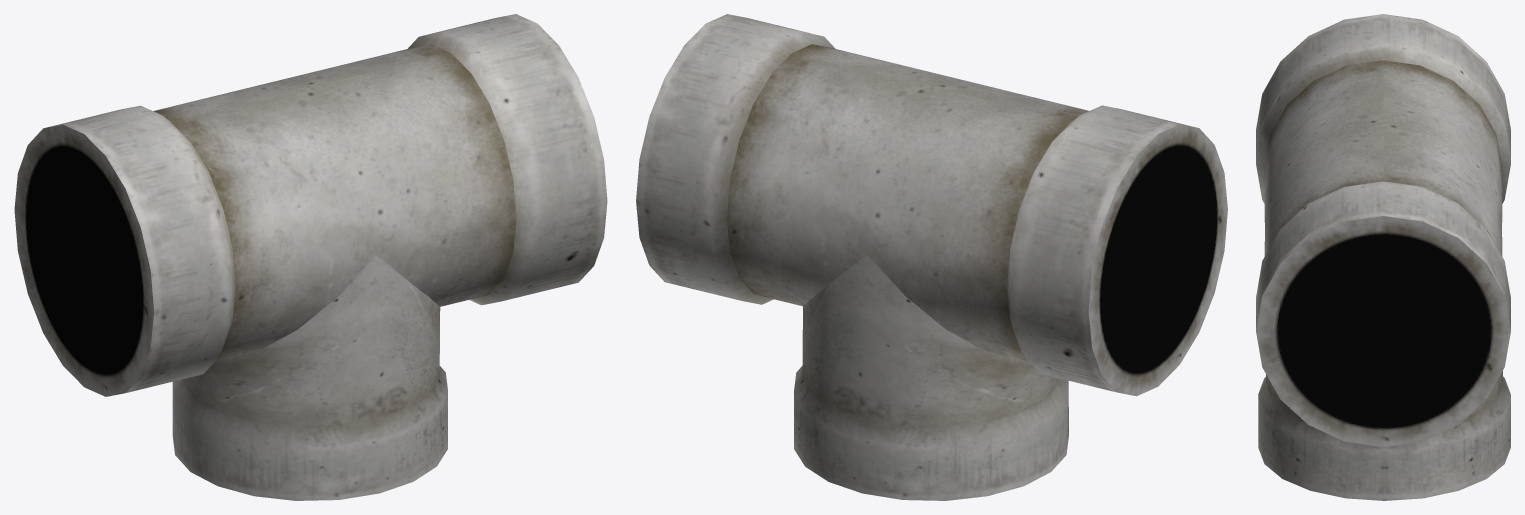
The model's file is PlasticPipe_12a_snaps019.fbx.
The picture shows the model from 3 angles, left to right: view 1: azimuth 30°, elevation 25°; view 2: azimuth 150°, elevation 25°; view 3: azimuth 270°, elevation 25°; orthographic projection. The views are drawn at different scales.
Visible parts, largest first — view 1: PlasticPipe_12a_snaps019_LOD0; view 2: PlasticPipe_12a_snaps019_LOD0; view 3: PlasticPipe_12a_snaps019_LOD0.
Part boxes in pixels (x1,y1,x2,y2): PlasticPipe_12a_snaps019_LOD0: [14, 14, 607, 500]; PlasticPipe_12a_snaps019_LOD0: [636, 14, 1227, 500]; PlasticPipe_12a_snaps019_LOD0: [1256, 14, 1510, 500].
Size of what is drawn, in the model's own units: 50 by 38.4 by 26.68.
